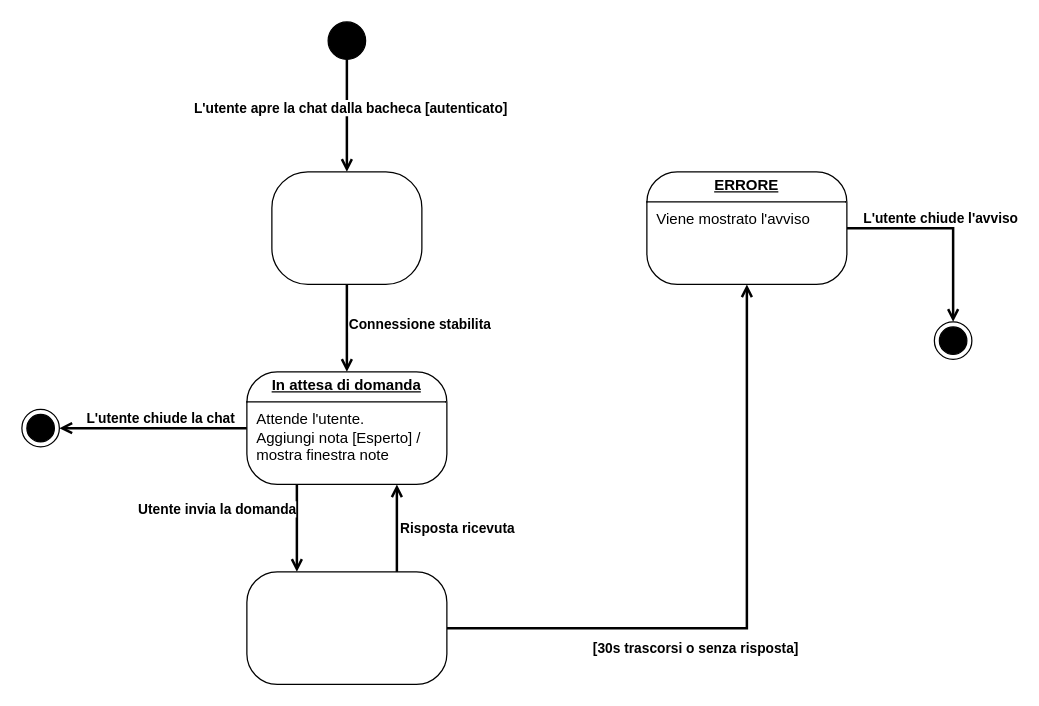
The diagram is 1039 pixels wide and 706 high, and some of its shapes have lost their labels. The centre of each missing label's shape, as x and y in pixels:
"Creato" goes at (346,227).
"In attesa di risposta entry / recupera il contesto e invia la richiesta" goes at (346,627).
